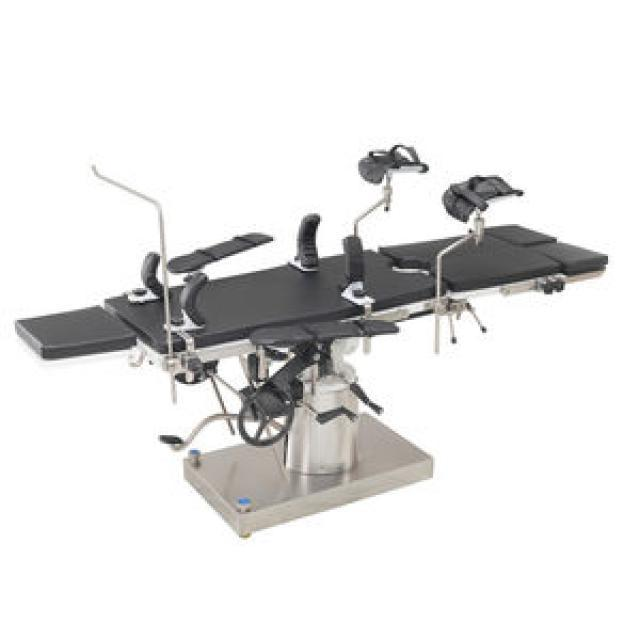bed: (13, 140, 608, 538)
